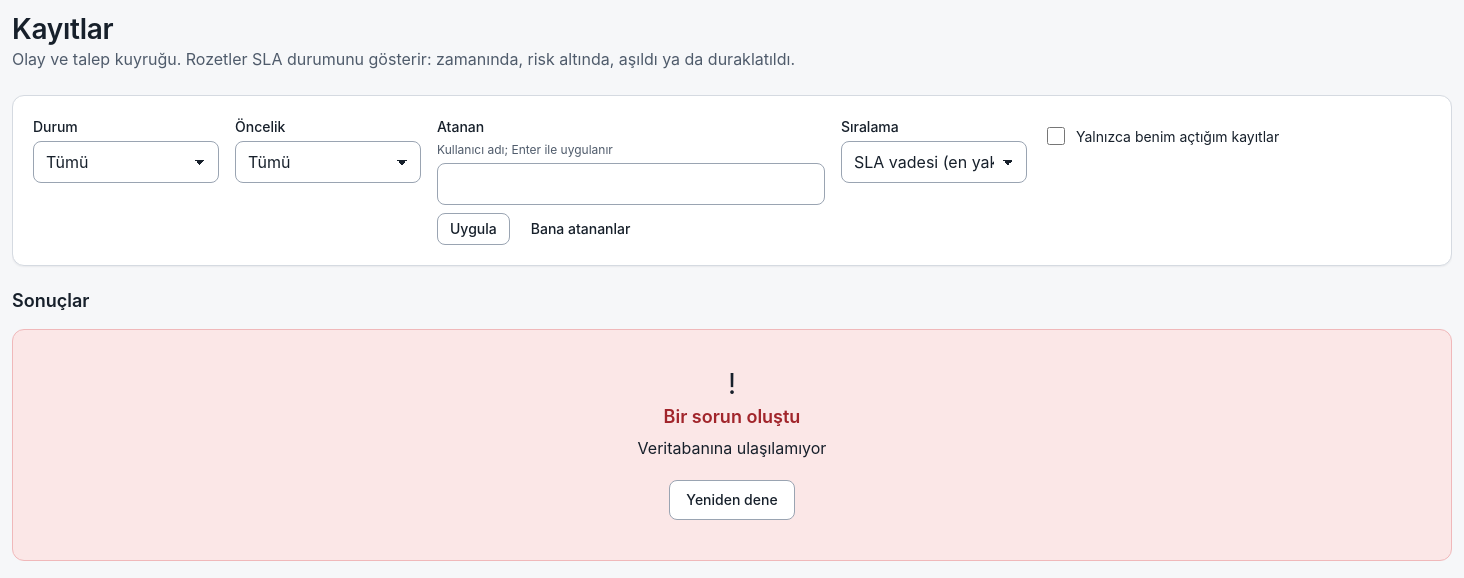
Test case: IncidentQueuePage › sunucu hatası: hata durumu ve yeniden deneme
Expected: the message shows "Veritabanına ulaşılamıyor", [638,438,826,458]
Click the button "Yeniden dene" at (732, 500), box [669,480,795,520]
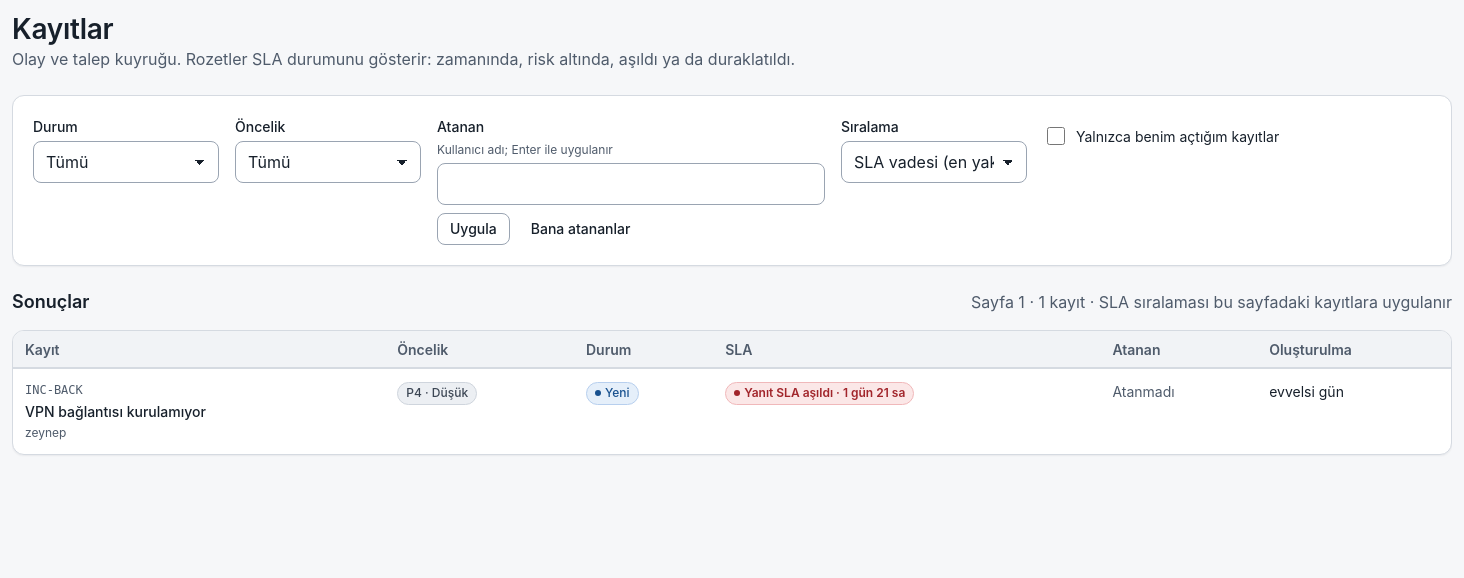
Expected: the text "INC-BACK" is shown, [25,383,83,397]
